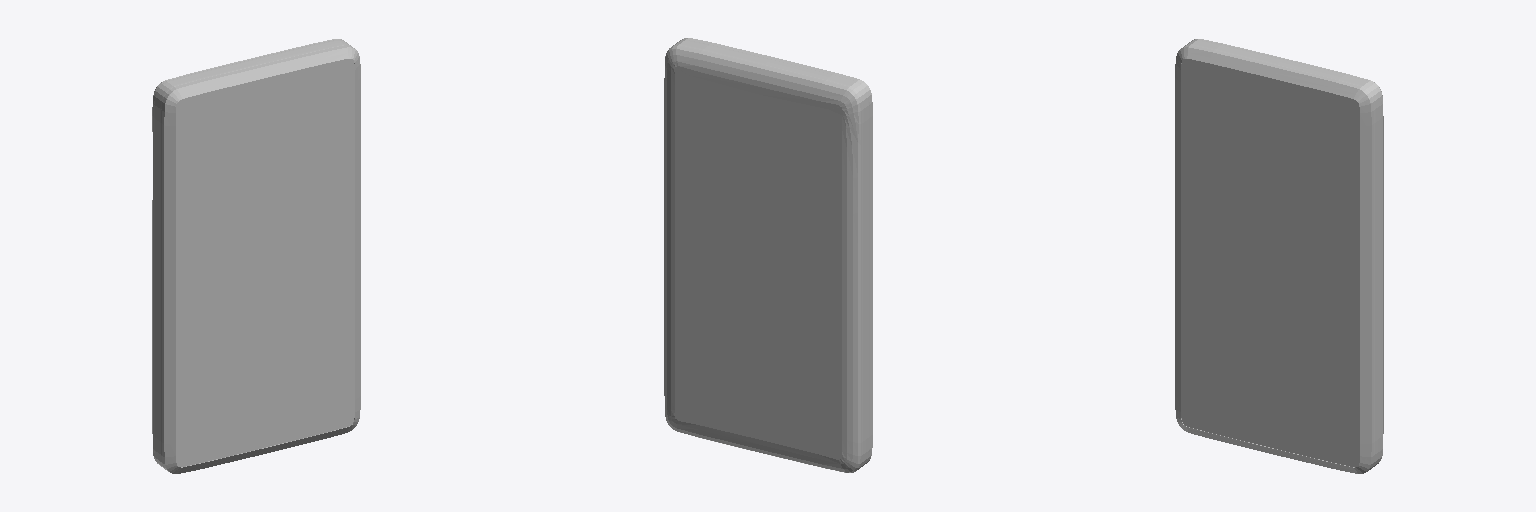
Rendered from cel.obj.
3 views of the same model, side by side, from view 1: azimuth 30°, elevation 25°; view 2: azimuth 150°, elevation 25°; view 3: azimuth 330°, elevation 25° (orthographic).
Parts seen in each view (by area): view 1: 10118_smartrphone_v1_SG; view 2: 10118_smartrphone_v1_SG; view 3: 10118_smartrphone_v1_SG.
Part boxes in pixels (bbox=[...]): 10118_smartrphone_v1_SG: bbox=[152, 39, 360, 473]; 10118_smartrphone_v1_SG: bbox=[664, 38, 872, 472]; 10118_smartrphone_v1_SG: bbox=[1175, 39, 1383, 473].
Size of the model in its own units: 6.11 by 11.51 by 1.03.